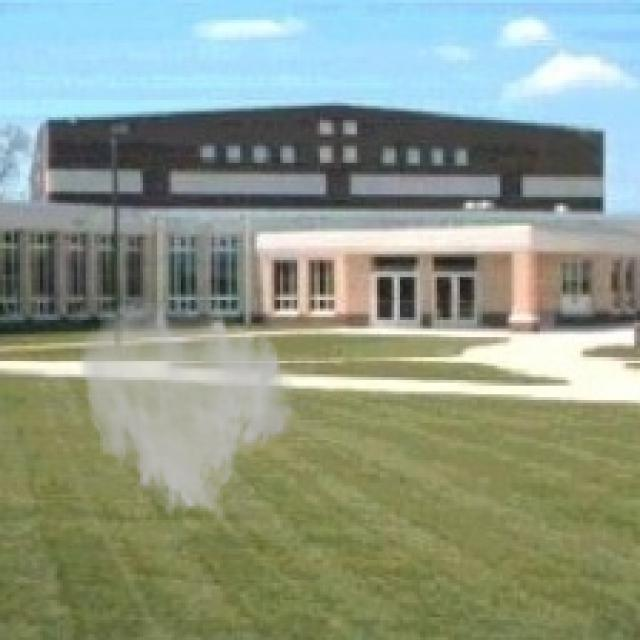Smoke: (77, 294, 297, 526)
